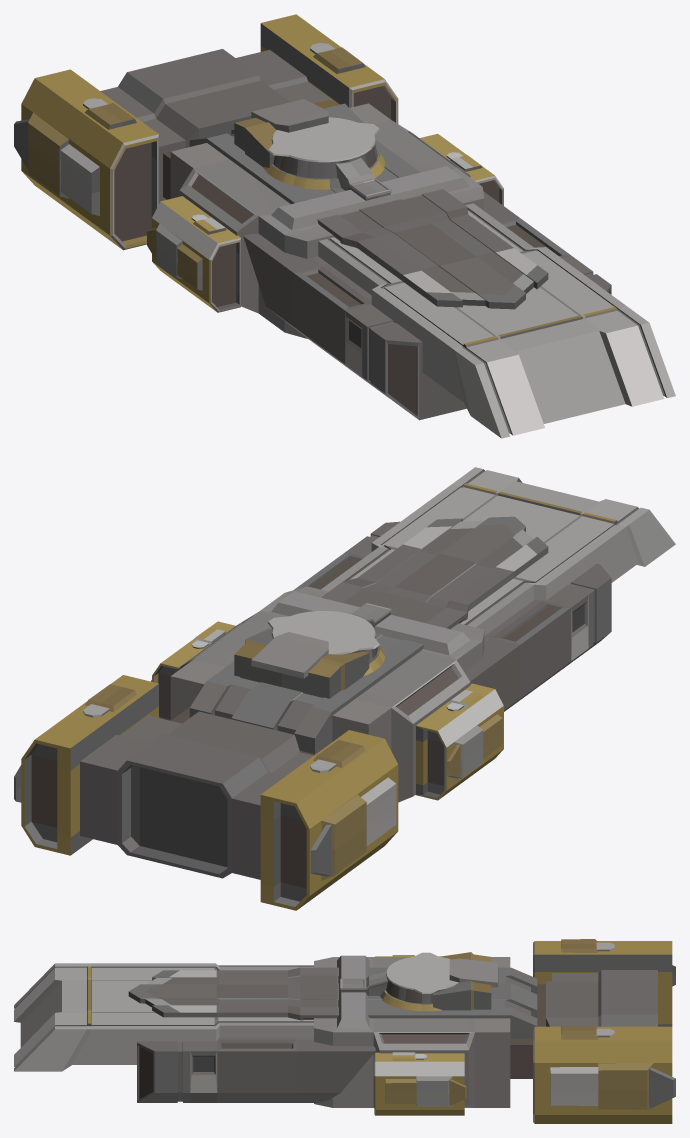
File: imperial.glb
3 renders of one model, top to bottom at view 1: azimuth 30°, elevation 25°; view 2: azimuth 150°, elevation 25°; view 3: azimuth 270°, elevation 25°, orthographic. The views are drawn at different scales.
Parts seen in each view (by area): view 1: Imperial; view 2: Imperial; view 3: Imperial.
Part boxes in pixels (left/top/right/bottom): Imperial: left=14, top=14, right=675, bottom=438; Imperial: left=14, top=467, right=675, bottom=910; Imperial: left=14, top=939, right=675, bottom=1123.
Size of the model in its own units: 7.73 by 3.3 by 18.55.
